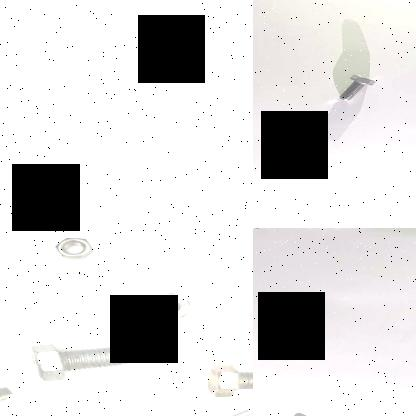Bolts: (29, 330, 140, 381), (201, 359, 253, 397), (140, 44, 196, 76), (332, 72, 380, 102), (0, 350, 24, 410), (177, 405, 253, 416)
NUTS: (138, 282, 197, 324), (48, 233, 106, 262)
